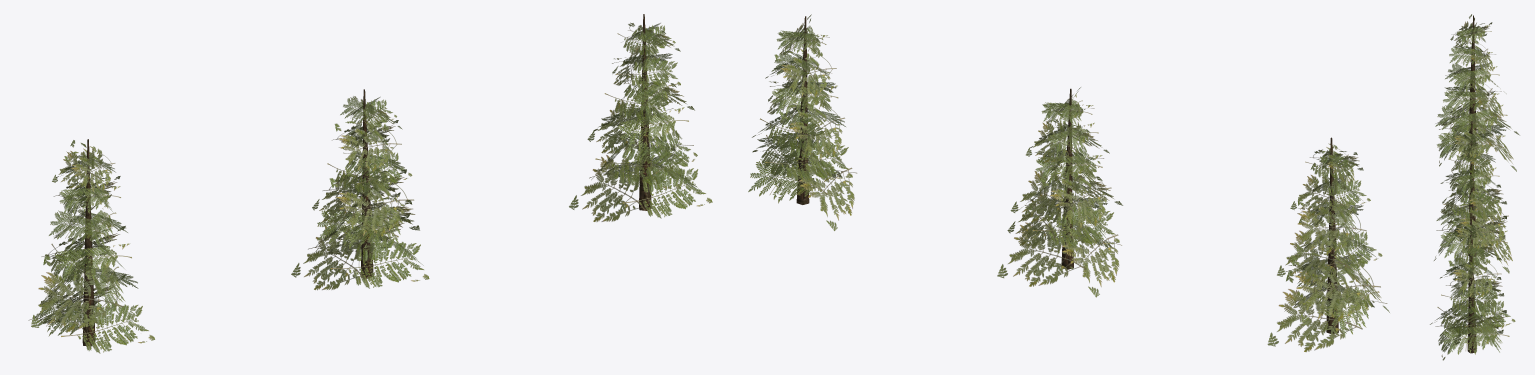
File: tree_fir_lod.glb
3 views of the same model, side by side, from view 1: azimuth 30°, elevation 25°; view 2: azimuth 150°, elevation 25°; view 3: azimuth 270°, elevation 25° (orthographic). The views are drawn at different scales.
Parts seen in each view (by area): view 1: variant_2, variant_1, variant_0; view 2: variant_1, variant_0, variant_2; view 3: variant_2, variant_0, variant_1.
Part boxes in pixels (x1=…): variant_2: x1=569, y1=14, x2=712, y2=221; variant_1: x1=291, y1=89, x2=429, y2=290; variant_0: x1=28, y1=139, x2=154, y2=353; variant_1: x1=997, y1=87, x2=1122, y2=297; variant_0: x1=1267, y1=137, x2=1389, y2=352; variant_2: x1=748, y1=14, x2=856, y2=230; variant_2: x1=1430, y1=213, x2=1515, y2=360; variant_0: x1=1435, y1=14, x2=1519, y2=171; variant_1: x1=1434, y1=122, x2=1512, y2=273.
Bounding box in the file's own units: 28.85 × 8.5 × 5.1.
2 materials, 2 textured.
